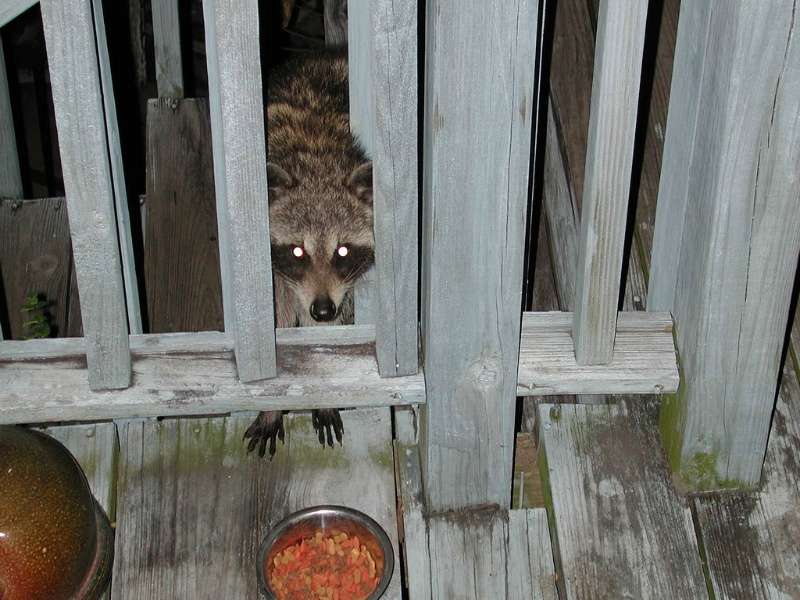raccoon: (243, 46, 382, 462)
